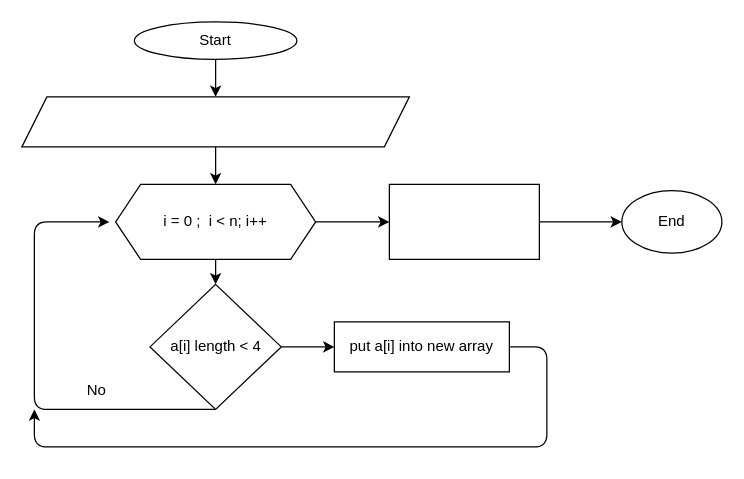
The diagram is 744 pixels wide and 479 high, and some of its shapes have lost their labels. The shapes that lost their labels are listed below. From the top down, each one's centre as x and y in pixels, then its label:
(x=215, y=121): we have the array "a" with n elements; a[n]
(x=463, y=221): Show the new array
